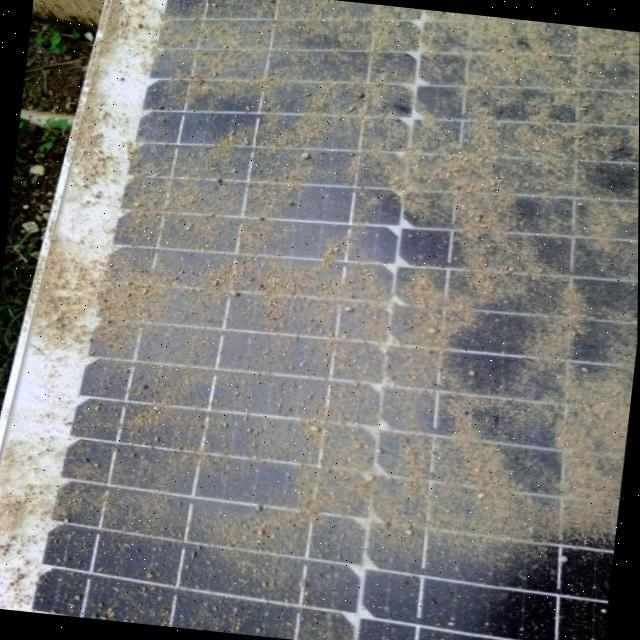Surface Contaminant: (77, 0, 640, 640)
